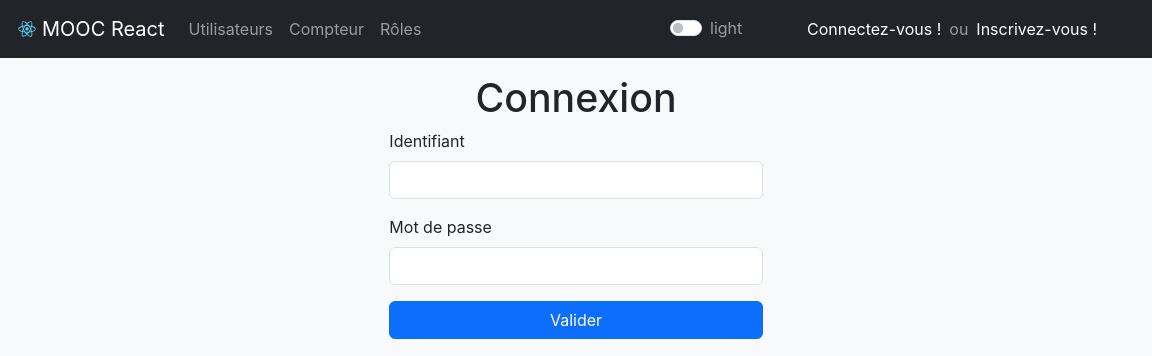
Test: Connexion Deconnexion › Devrait se rendre sur la page connexion se connecter ensuite se déconnecter et vérifier que le boutton deconnexion n'est plus présent
The image size is (1152, 356).
Type "test" into the field with id "login" at (576,180), box [389,161,762,199]
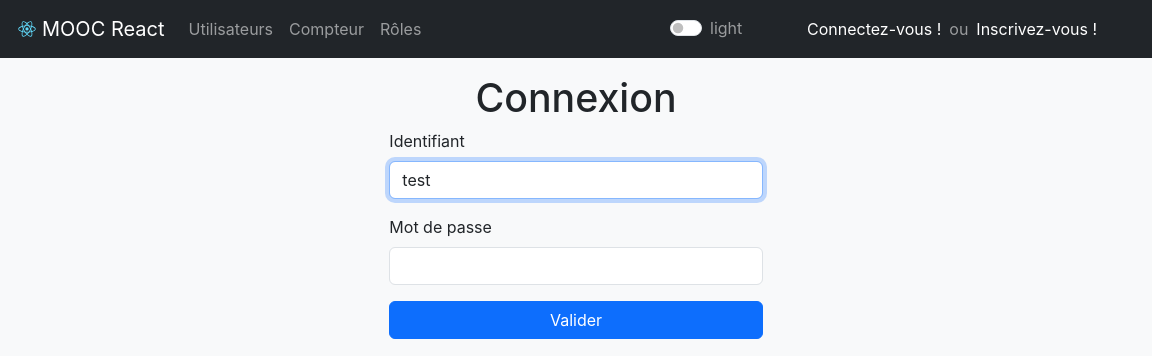
Type "12345678" into the password field labelled "Mot de passe" at (576,266), box [389,247,762,285]
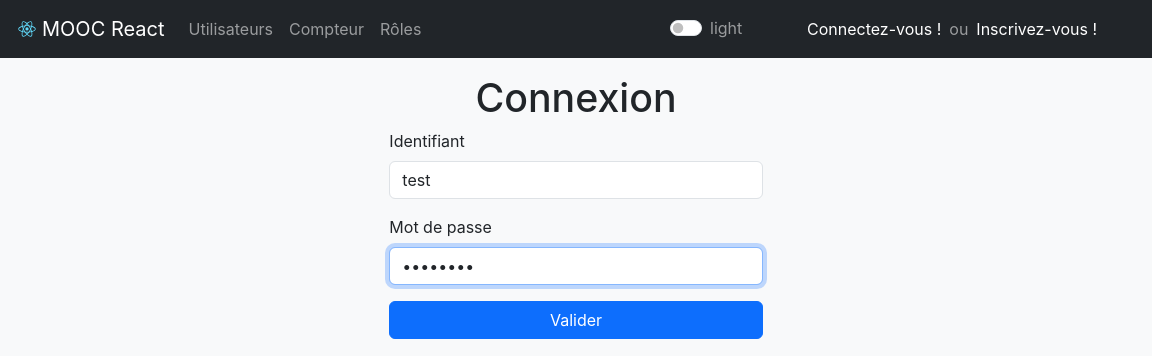
Click the submit button at (576,320), box [389,301,762,339]
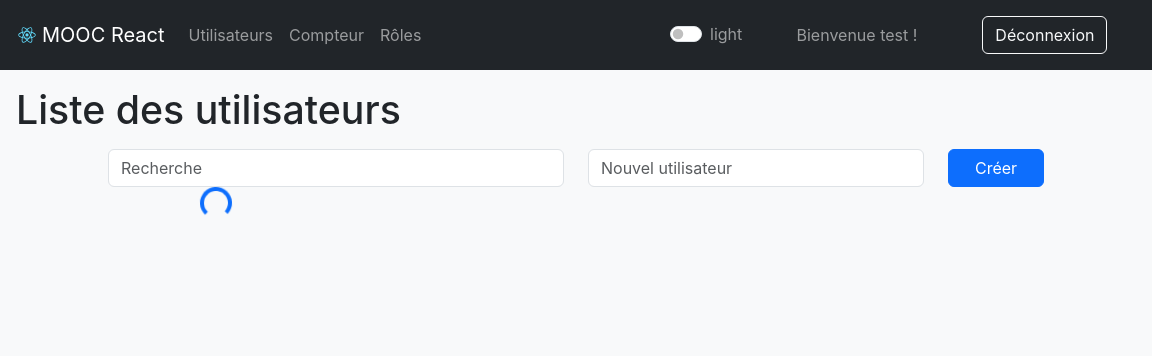
Click the button "Déconnexion" at (1045,35), box [982,16,1107,54]
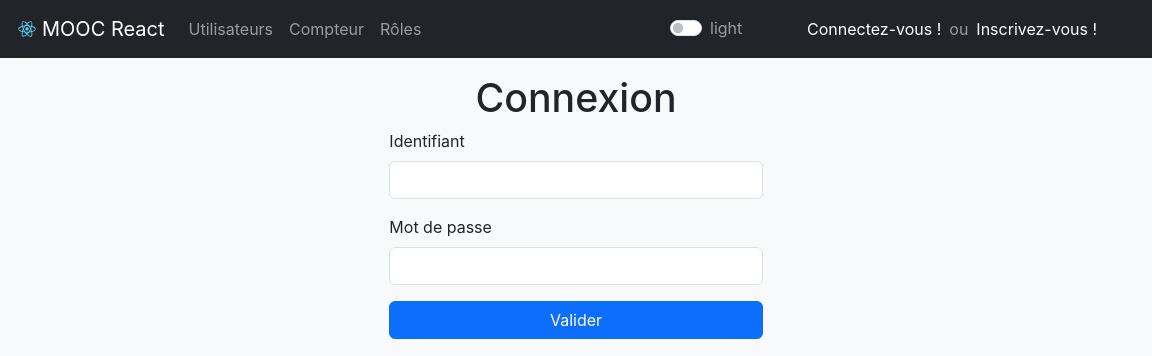
Expected: the button "Déconnexion" is gone
